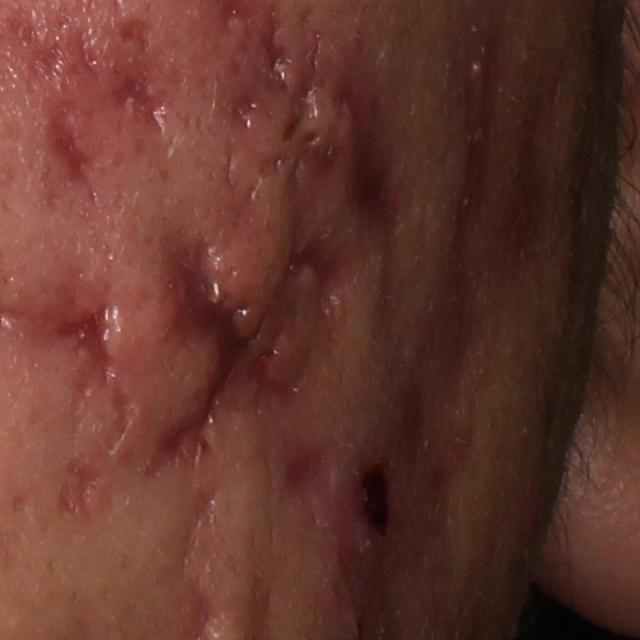atrophic_scar: (144, 239, 271, 482), (498, 28, 573, 273), (258, 230, 352, 344), (343, 90, 400, 222), (41, 92, 95, 200), (275, 436, 352, 509), (106, 69, 180, 134), (55, 456, 111, 524), (282, 45, 321, 141), (245, 150, 291, 205), (256, 3, 289, 75), (226, 92, 262, 133), (117, 17, 153, 55)
hypertrophic_scar: (197, 201, 294, 338), (300, 81, 362, 159)
